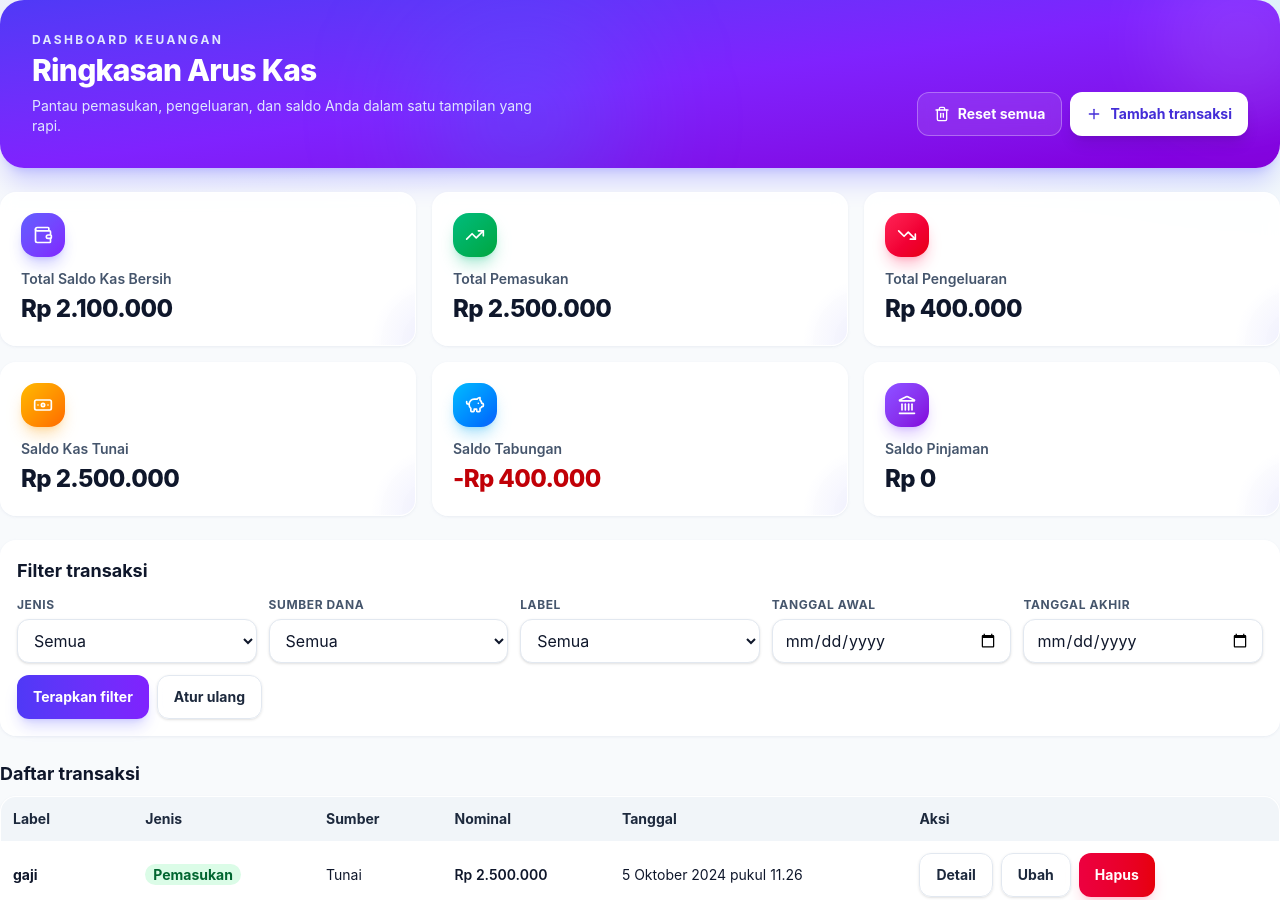
Test: HomePage - modal › membuka modal tambah lalu memuat ulang setelah tersimpan
Click the button "Tambah transaksi" at (1159, 114), box [1070, 92, 1248, 136]
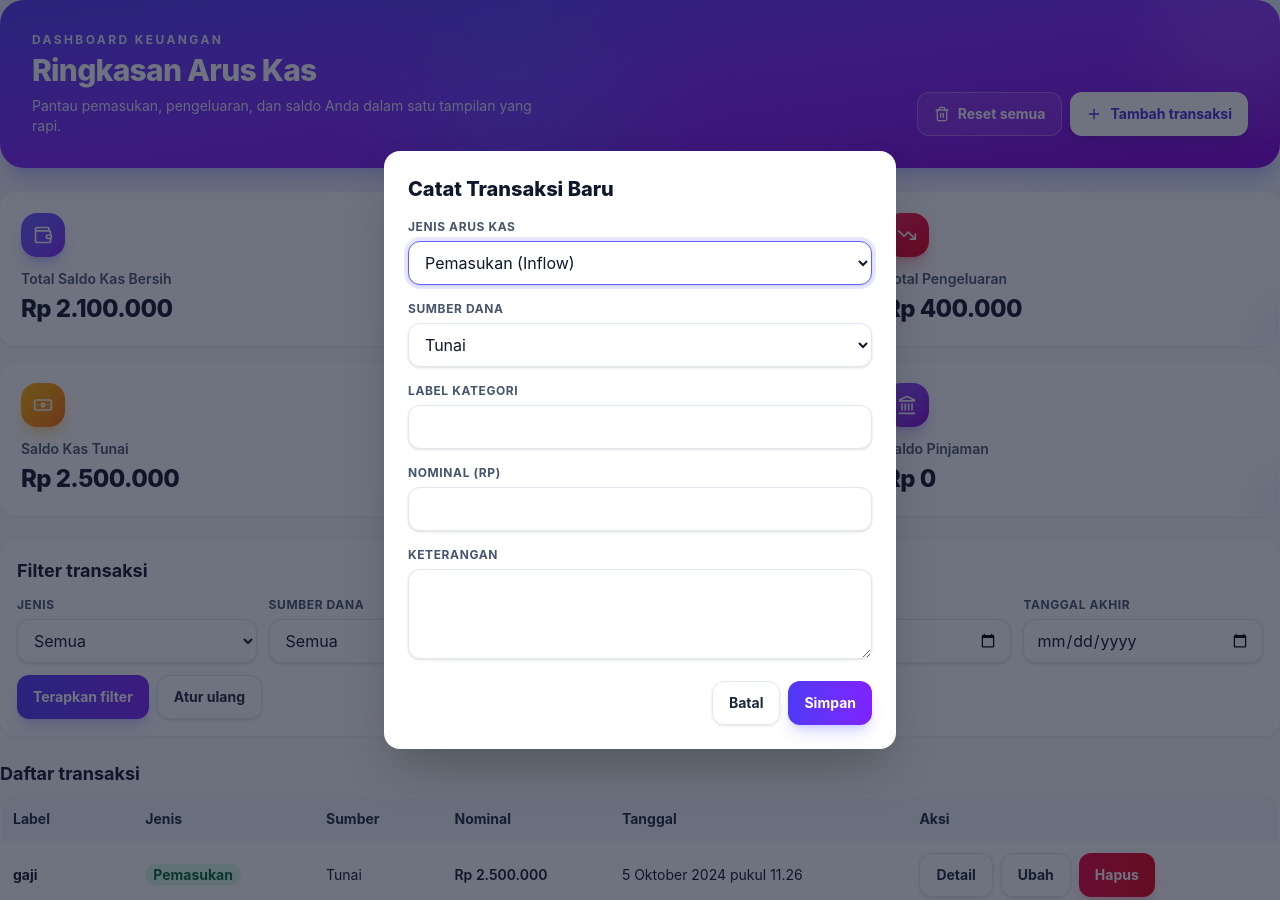
Expected: the dialog is shown, [384, 151, 896, 749]
Expected: the text "Catat Transaksi Baru" is shown, [408, 177, 614, 201]
Type "x" into the field with id "add-label" at (640, 427), box [408, 405, 872, 449]
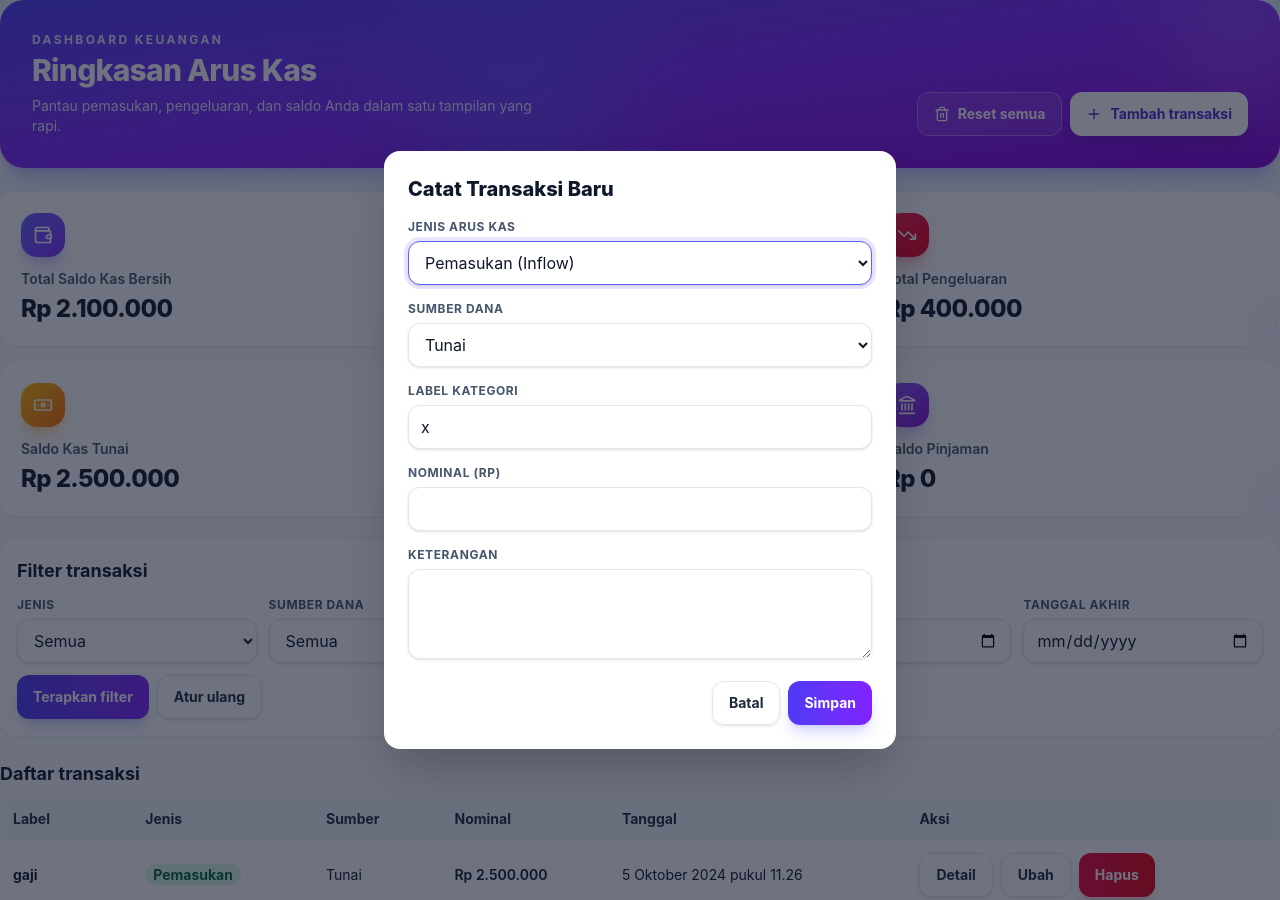
Type "100" into the number field with id "add-nominal" at (640, 509), box [408, 487, 872, 531]
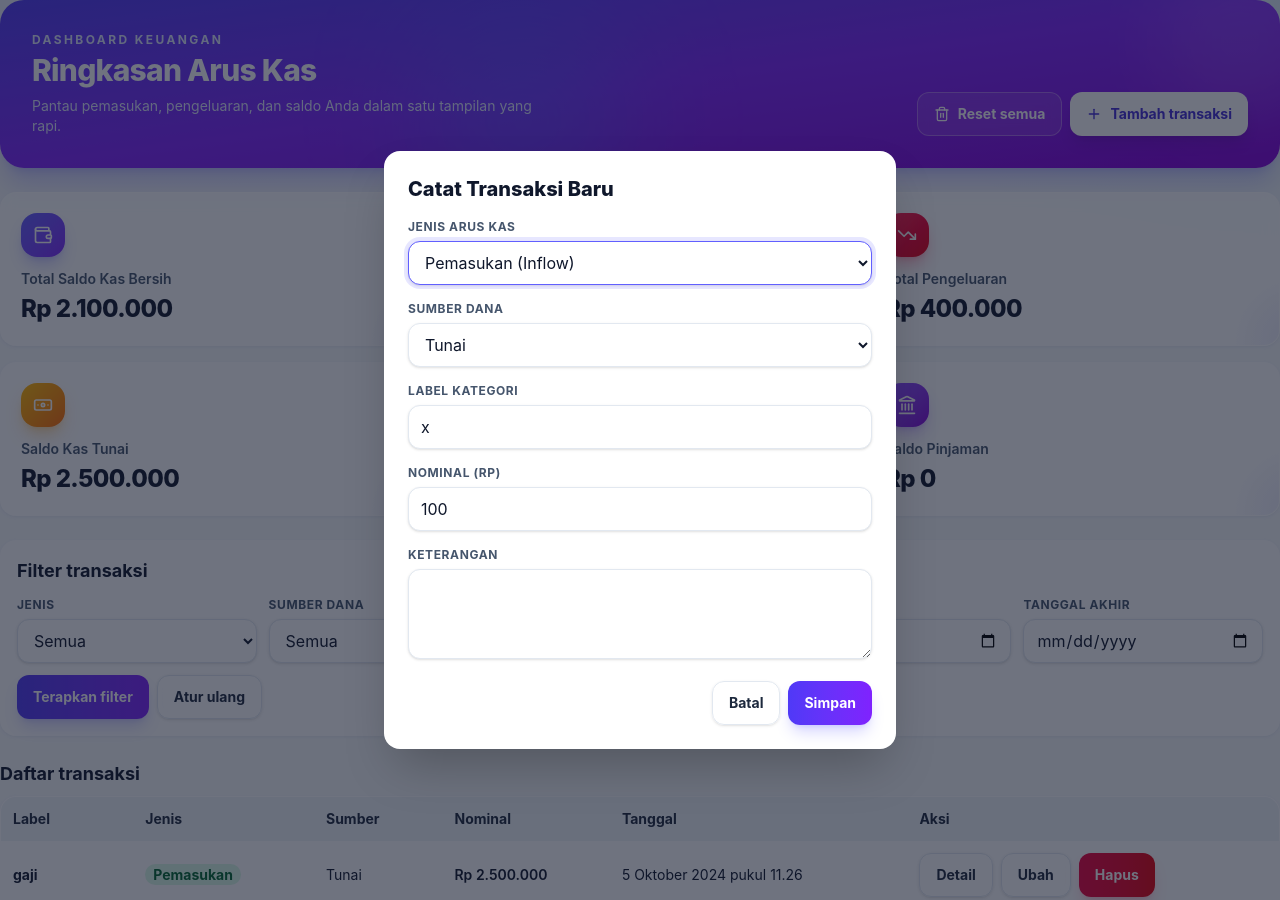
Type "d" into the text box with id "add-desc" at (640, 614), box [408, 569, 872, 659]
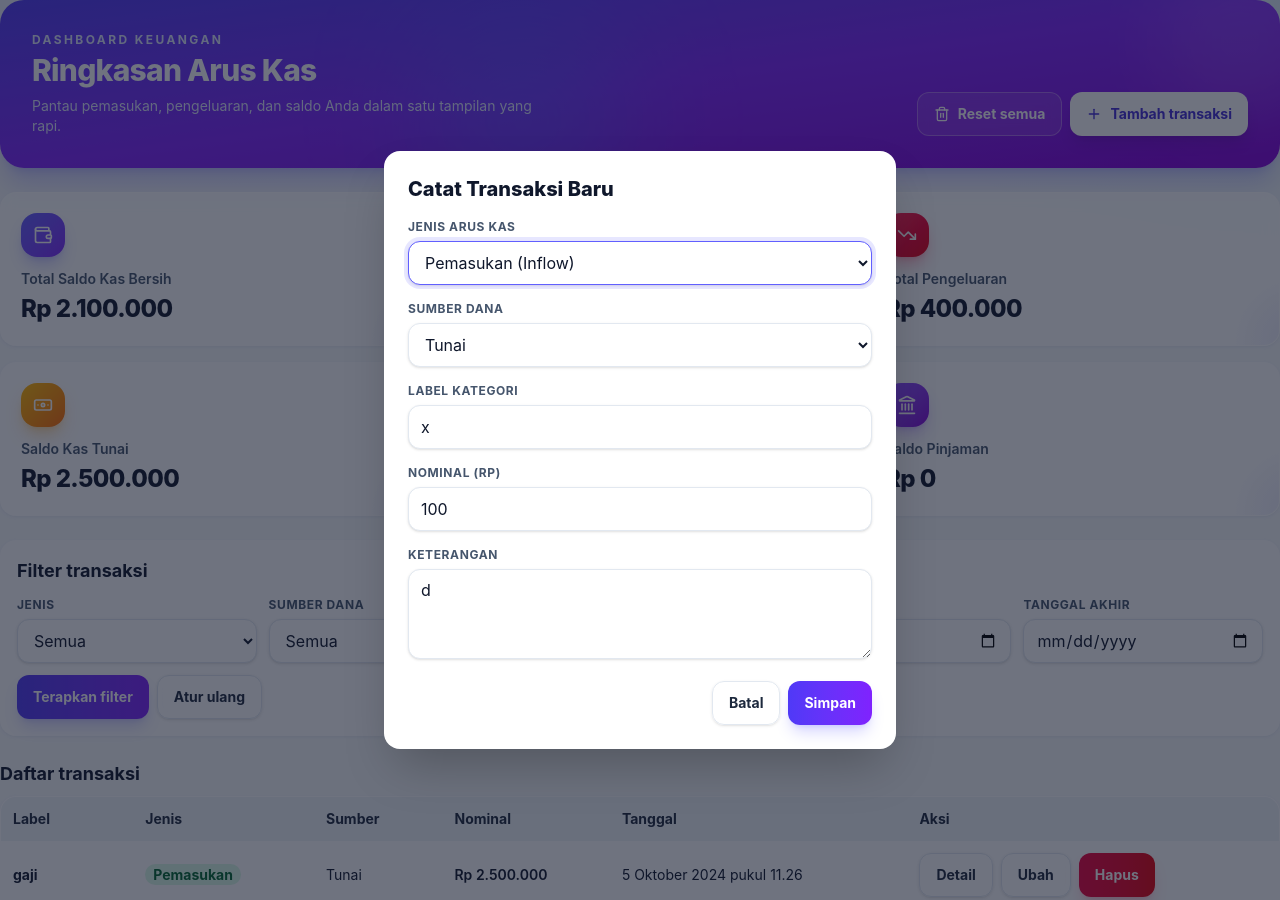
Submit the form, box [408, 219, 872, 725]
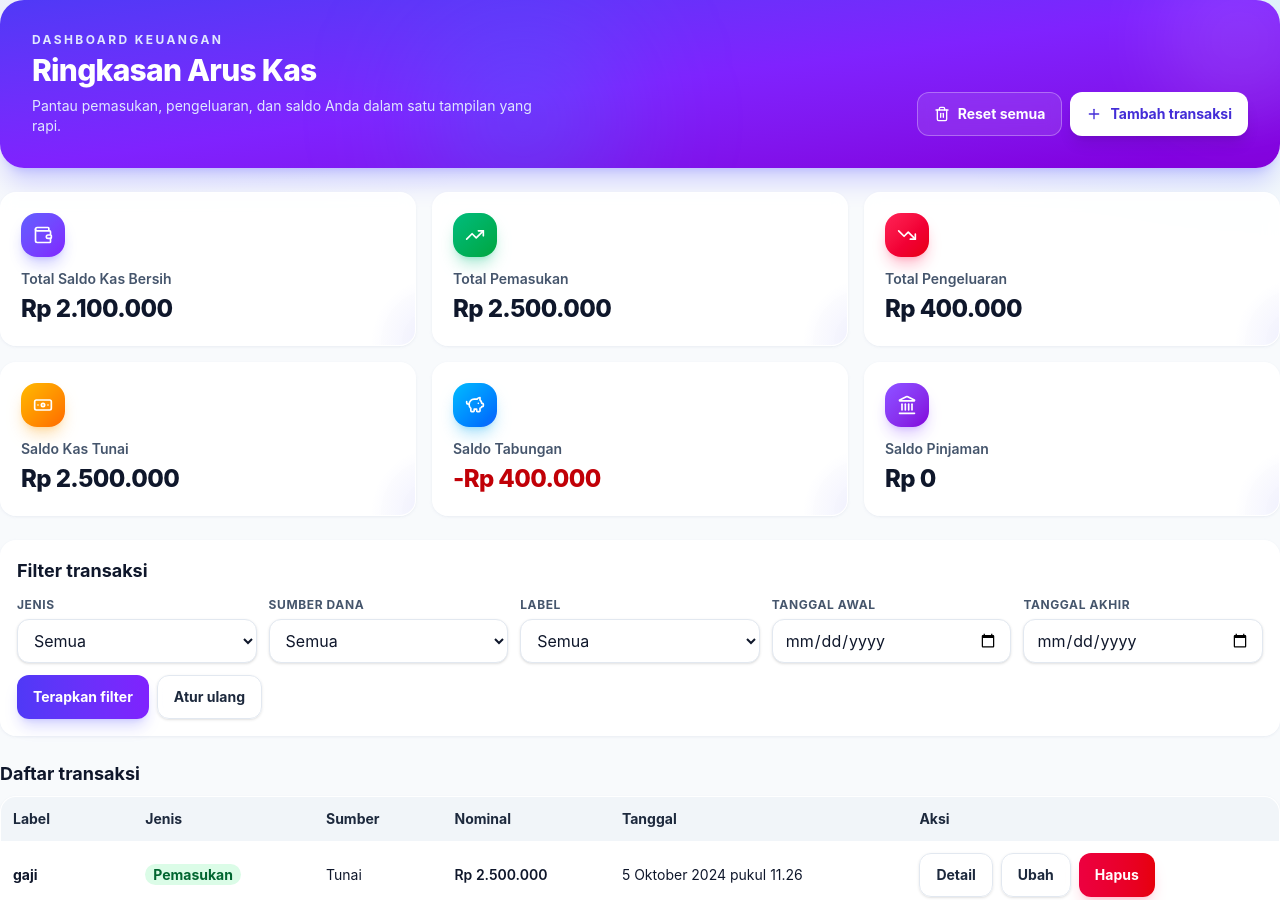
Expected: the text "Catat Transaksi Baru" is gone
